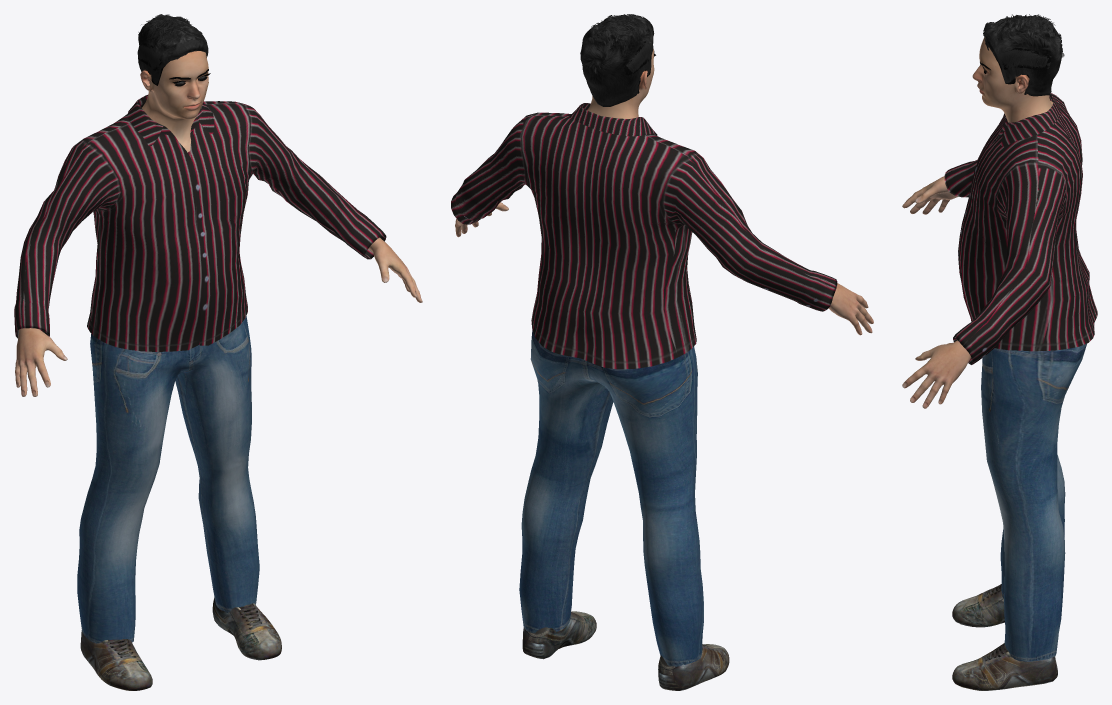
The picture shows the model from 3 angles, left to right: view 1: azimuth 30°, elevation 25°; view 2: azimuth 150°, elevation 25°; view 3: azimuth 270°, elevation 25°; orthographic projection. The views are drawn at different scales.
Visible parts, largest first — view 1: male_casualsuit03Mesh, male_muscle_13290Mesh, shoes02Mesh, short01Mesh; view 2: male_casualsuit03Mesh, short01Mesh, shoes02Mesh, male_muscle_13290Mesh; view 3: male_casualsuit03Mesh, male_muscle_13290Mesh, shoes02Mesh, short01Mesh.
Part boxes in pixels (x1,y1,x2,y2): male_casualsuit03Mesh: [14, 95, 386, 643]; male_muscle_13290Mesh: [15, 51, 422, 396]; shoes02Mesh: [80, 597, 281, 690]; short01Mesh: [137, 14, 208, 91]; male_casualsuit03Mesh: [451, 103, 837, 666]; short01Mesh: [580, 14, 654, 106]; shoes02Mesh: [522, 611, 729, 690]; male_muscle_13290Mesh: [455, 49, 873, 335]; male_casualsuit03Mesh: [944, 93, 1097, 661]; male_muscle_13290Mesh: [902, 37, 1052, 408]; shoes02Mesh: [952, 584, 1057, 690]; short01Mesh: [983, 14, 1064, 96].
Bounding box in the file's own units: 1.12 × 1.69 × 0.4718.
8 materials, 7 textured.
